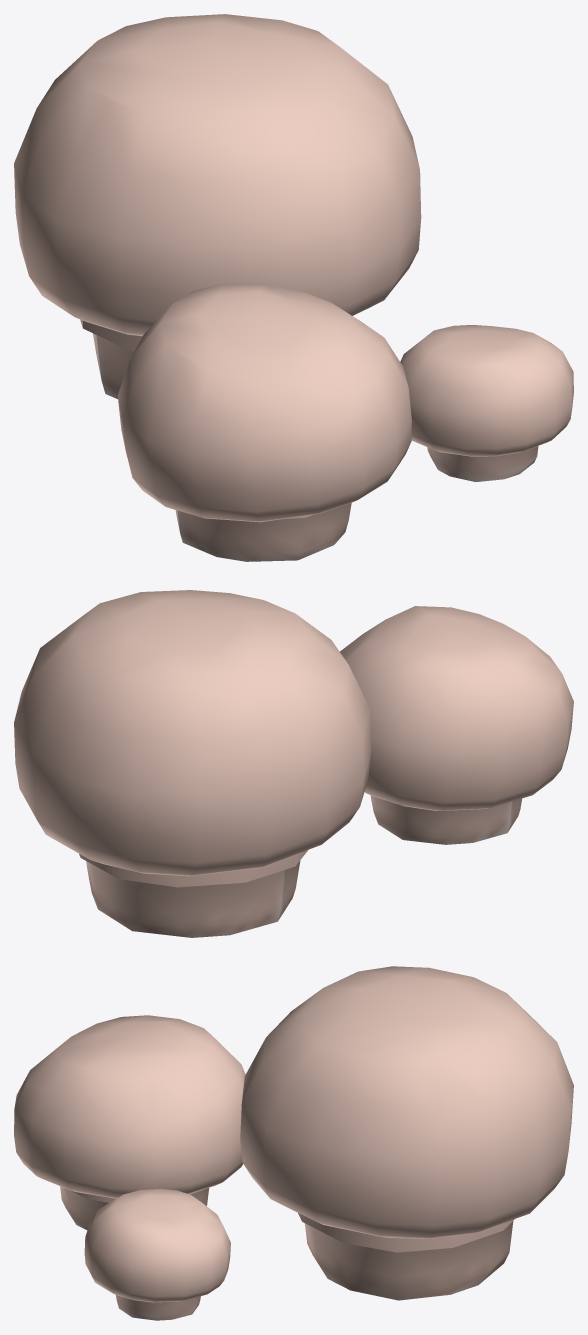
File: houba_hliva_ruzova.glb
3 renders of one model, top to bottom at view 1: azimuth 30°, elevation 25°; view 2: azimuth 150°, elevation 25°; view 3: azimuth 270°, elevation 25°, orthographic. The views are drawn at different scales.
Visible parts, largest first — view 1: houba_hliva_ruzova; view 2: houba_hliva_ruzova; view 3: houba_hliva_ruzova.
Boxes of the visible parts, x1,y1,x2,y2 form: houba_hliva_ruzova: (14, 14, 573, 561); houba_hliva_ruzova: (14, 590, 573, 937); houba_hliva_ruzova: (14, 966, 573, 1320).
Bounding box in the file's own units: 0.0754 × 0.053 × 0.1027.
Materials: 1 (1 with a texture image).
